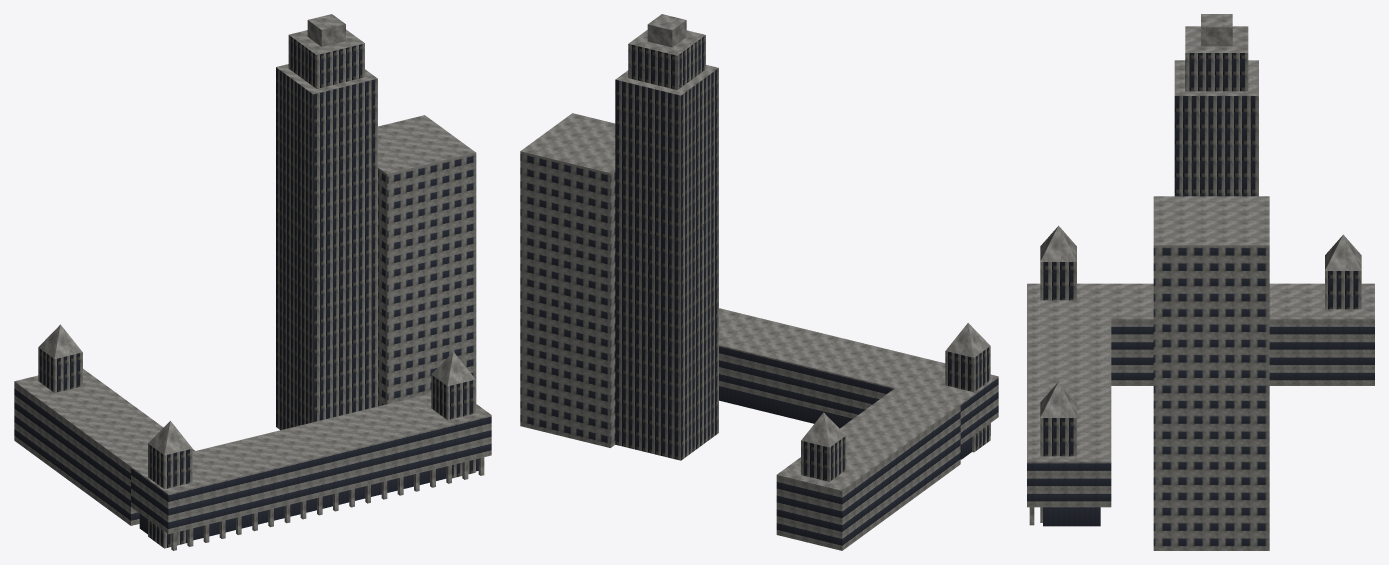
File: satu_mare.obj
The picture shows the model from 3 angles, left to right: view 1: azimuth 30°, elevation 25°; view 2: azimuth 150°, elevation 25°; view 3: azimuth 270°, elevation 25°; orthographic projection. The views are drawn at different scales.
Parts seen in each view (by area): view 1: MainTower_FacadeFins, SecondBlock_FacadeGrid, WingUpper_FacadeRibbon, WingUpper_Concrete, SideWing_FacadeRibbon, SideWing_Concrete, SmallTower_FacadeFins, SecondBlock_Concrete, Crown_FacadeFins, SmallTowerRoof_Concrete, WingLobby_Glass, Arcade_Concrete (+3 smaller); view 2: MainTower_FacadeFins, SecondBlock_FacadeGrid, SideWing_FacadeRibbon, WingUpper_Concrete, WingUpper_FacadeRibbon, SideWing_Concrete, SecondBlock_Concrete, SmallTower_FacadeFins, Crown_FacadeFins, WingLobby_Glass, SmallTowerRoof_Concrete, Lantern_Concrete (+2 smaller); view 3: SecondBlock_FacadeGrid, WingUpper_Concrete, SideWing_FacadeRibbon, MainTower_FacadeFins, SecondBlock_Concrete, SideWing_Concrete, SmallTower_FacadeFins, WingUpper_FacadeRibbon, SmallTowerRoof_Concrete, Crown_FacadeFins, WingLobby_Glass, MainTower_Concrete (+2 smaller).
Part boxes in pixels (bbox=[...]): MainTower_FacadeFins: bbox=[276, 67, 377, 430]; SecondBlock_FacadeGrid: bbox=[378, 153, 476, 406]; WingUpper_FacadeRibbon: bbox=[131, 415, 491, 534]; WingUpper_Concrete: bbox=[131, 393, 491, 493]; SideWing_FacadeRibbon: bbox=[14, 381, 139, 525]; SideWing_Concrete: bbox=[14, 369, 194, 466]; SmallTower_FacadeFins: bbox=[38, 347, 475, 548]; SecondBlock_Concrete: bbox=[378, 115, 475, 174]; Crown_FacadeFins: bbox=[288, 35, 364, 88]; SmallTowerRoof_Concrete: bbox=[38, 324, 475, 455]; WingLobby_Glass: bbox=[139, 458, 478, 540]; Arcade_Concrete: bbox=[171, 457, 484, 550]; MainTower_FacadeFins: bbox=[615, 68, 718, 460]; SecondBlock_FacadeGrid: bbox=[520, 151, 615, 447]; SideWing_FacadeRibbon: bbox=[776, 404, 960, 550]; WingUpper_Concrete: bbox=[719, 308, 998, 403]; WingUpper_FacadeRibbon: bbox=[719, 345, 998, 444]; SideWing_Concrete: bbox=[777, 388, 960, 490]; SecondBlock_Concrete: bbox=[520, 113, 615, 173]; SmallTower_FacadeFins: bbox=[801, 346, 990, 481]; Crown_FacadeFins: bbox=[628, 35, 705, 89]; WingLobby_Glass: bbox=[719, 386, 971, 459]; SmallTowerRoof_Concrete: bbox=[801, 323, 990, 447]; Lantern_Concrete: bbox=[647, 14, 686, 47]; SecondBlock_FacadeGrid: bbox=[1153, 245, 1269, 550]; WingUpper_Concrete: bbox=[1027, 283, 1111, 461]; SideWing_FacadeRibbon: bbox=[1111, 319, 1374, 385]; MainTower_FacadeFins: bbox=[1174, 96, 1258, 196]; SecondBlock_Concrete: bbox=[1153, 196, 1269, 245]; SideWing_Concrete: bbox=[1111, 283, 1374, 319]; SmallTower_FacadeFins: bbox=[1040, 262, 1361, 522]; WingUpper_FacadeRibbon: bbox=[1027, 461, 1111, 507]; SmallTowerRoof_Concrete: bbox=[1040, 225, 1361, 417]; Crown_FacadeFins: bbox=[1185, 53, 1248, 91]; WingLobby_Glass: bbox=[1043, 507, 1100, 526]; MainTower_Concrete: bbox=[1174, 60, 1258, 95].
Size of the model in its own units: 90 by 97 by 66.
5 materials, 5 textured.
